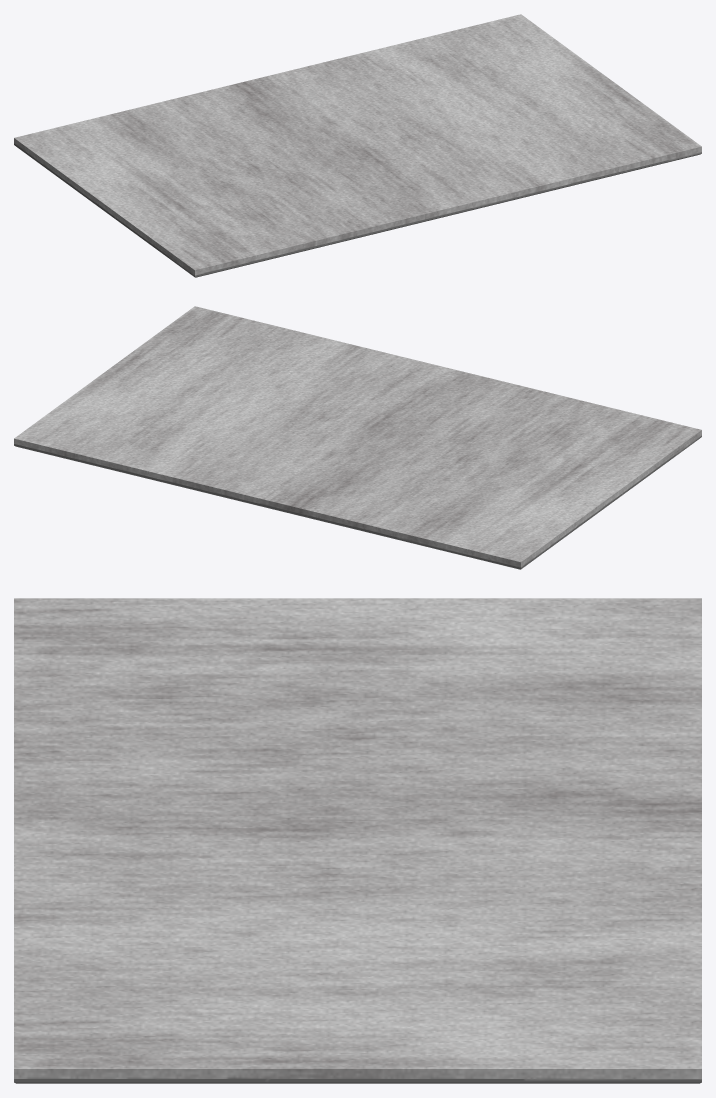
Rendered from Msh_PlafondSpectacle.fbx.
The picture shows the model from 3 angles, top to bottom: view 1: azimuth 30°, elevation 25°; view 2: azimuth 150°, elevation 25°; view 3: azimuth 270°, elevation 25°; orthographic projection. The views are drawn at different scales.
Visible parts, largest first — view 1: pCube11; view 2: pCube11; view 3: pCube11.
Boxes of the visible parts, box(x1,y1,x2,y2) form: pCube11: box(14, 14, 701, 277); pCube11: box(14, 306, 701, 569); pCube11: box(14, 598, 701, 1083).
Size of the model in its own units: 123 by 76.05 by 1.9.
